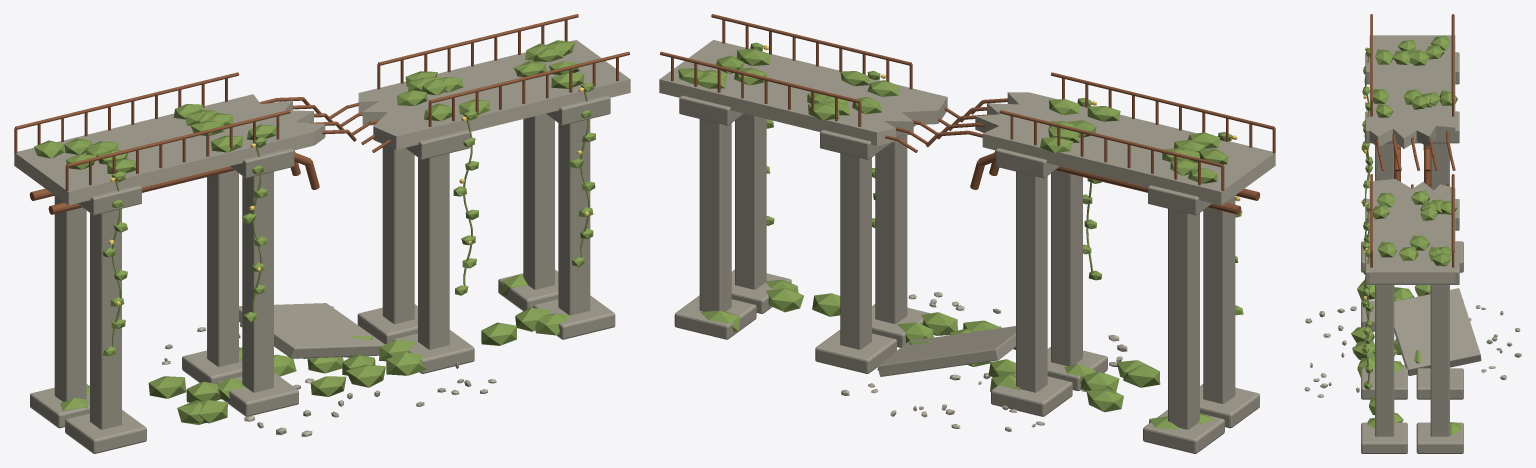
The model's file is Broken_Industrial_Viaduct_Golden.glb.
The picture shows the model from 3 angles, left to right: view 1: azimuth 30°, elevation 25°; view 2: azimuth 150°, elevation 25°; view 3: azimuth 270°, elevation 25°; orthographic projection. The views are drawn at different scales.
Visible parts, largest first — view 1: Structure, Growth; view 2: Structure, Growth; view 3: Structure, Growth.
Boxes of the visible parts, x1,y1,x2,y2 form: Structure: [14, 14, 630, 453]; Growth: [34, 40, 595, 424]; Structure: [659, 14, 1275, 453]; Growth: [678, 42, 1243, 429]; Structure: [1304, 14, 1521, 453]; Growth: [1351, 35, 1461, 435].
Bounding box in the file's own units: 24.06 × 11.97 × 10.13.
